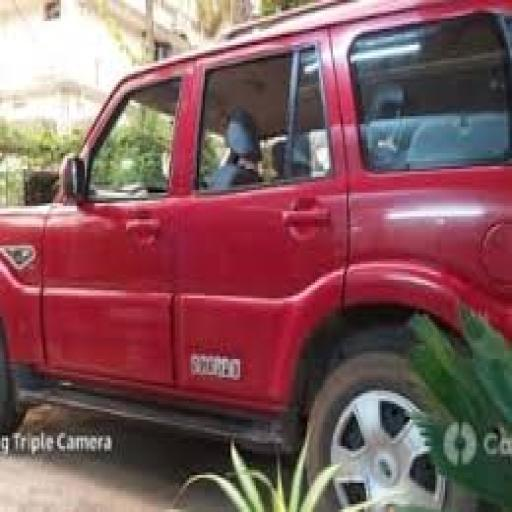car: (0, 2, 504, 510)
